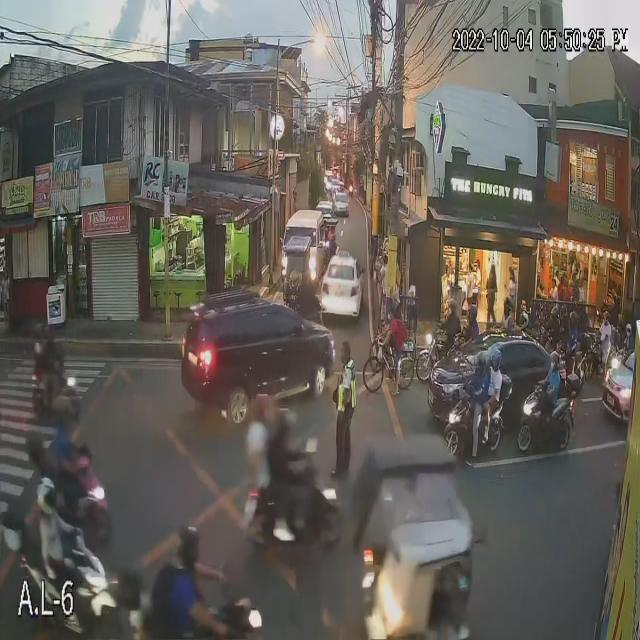helmet: (166, 520, 208, 568), (48, 394, 80, 443), (30, 477, 60, 524), (244, 390, 276, 426), (274, 411, 300, 451), (28, 320, 50, 347), (471, 351, 492, 377), (487, 345, 506, 371), (498, 295, 516, 320), (443, 295, 460, 318), (566, 309, 584, 330), (546, 303, 562, 326), (45, 320, 58, 345), (548, 349, 563, 369), (598, 310, 615, 327), (557, 300, 572, 319), (465, 302, 479, 322), (516, 313, 532, 326), (621, 321, 634, 337)
motorcycle: (3, 537, 112, 625), (242, 462, 345, 551), (127, 590, 268, 640), (25, 456, 111, 521), (443, 393, 507, 464), (22, 361, 90, 425), (522, 391, 583, 451), (421, 333, 457, 378)
rider: (161, 515, 214, 623), (270, 397, 311, 491), (242, 389, 277, 484), (31, 477, 61, 582), (50, 394, 82, 486), (24, 317, 51, 387), (465, 346, 490, 413), (42, 319, 63, 387), (547, 343, 567, 410), (490, 343, 508, 406), (564, 308, 585, 361), (461, 297, 486, 339), (494, 292, 515, 341), (438, 293, 457, 343), (598, 306, 614, 357), (620, 317, 639, 355), (544, 303, 560, 347), (514, 307, 532, 339), (557, 301, 573, 337)
